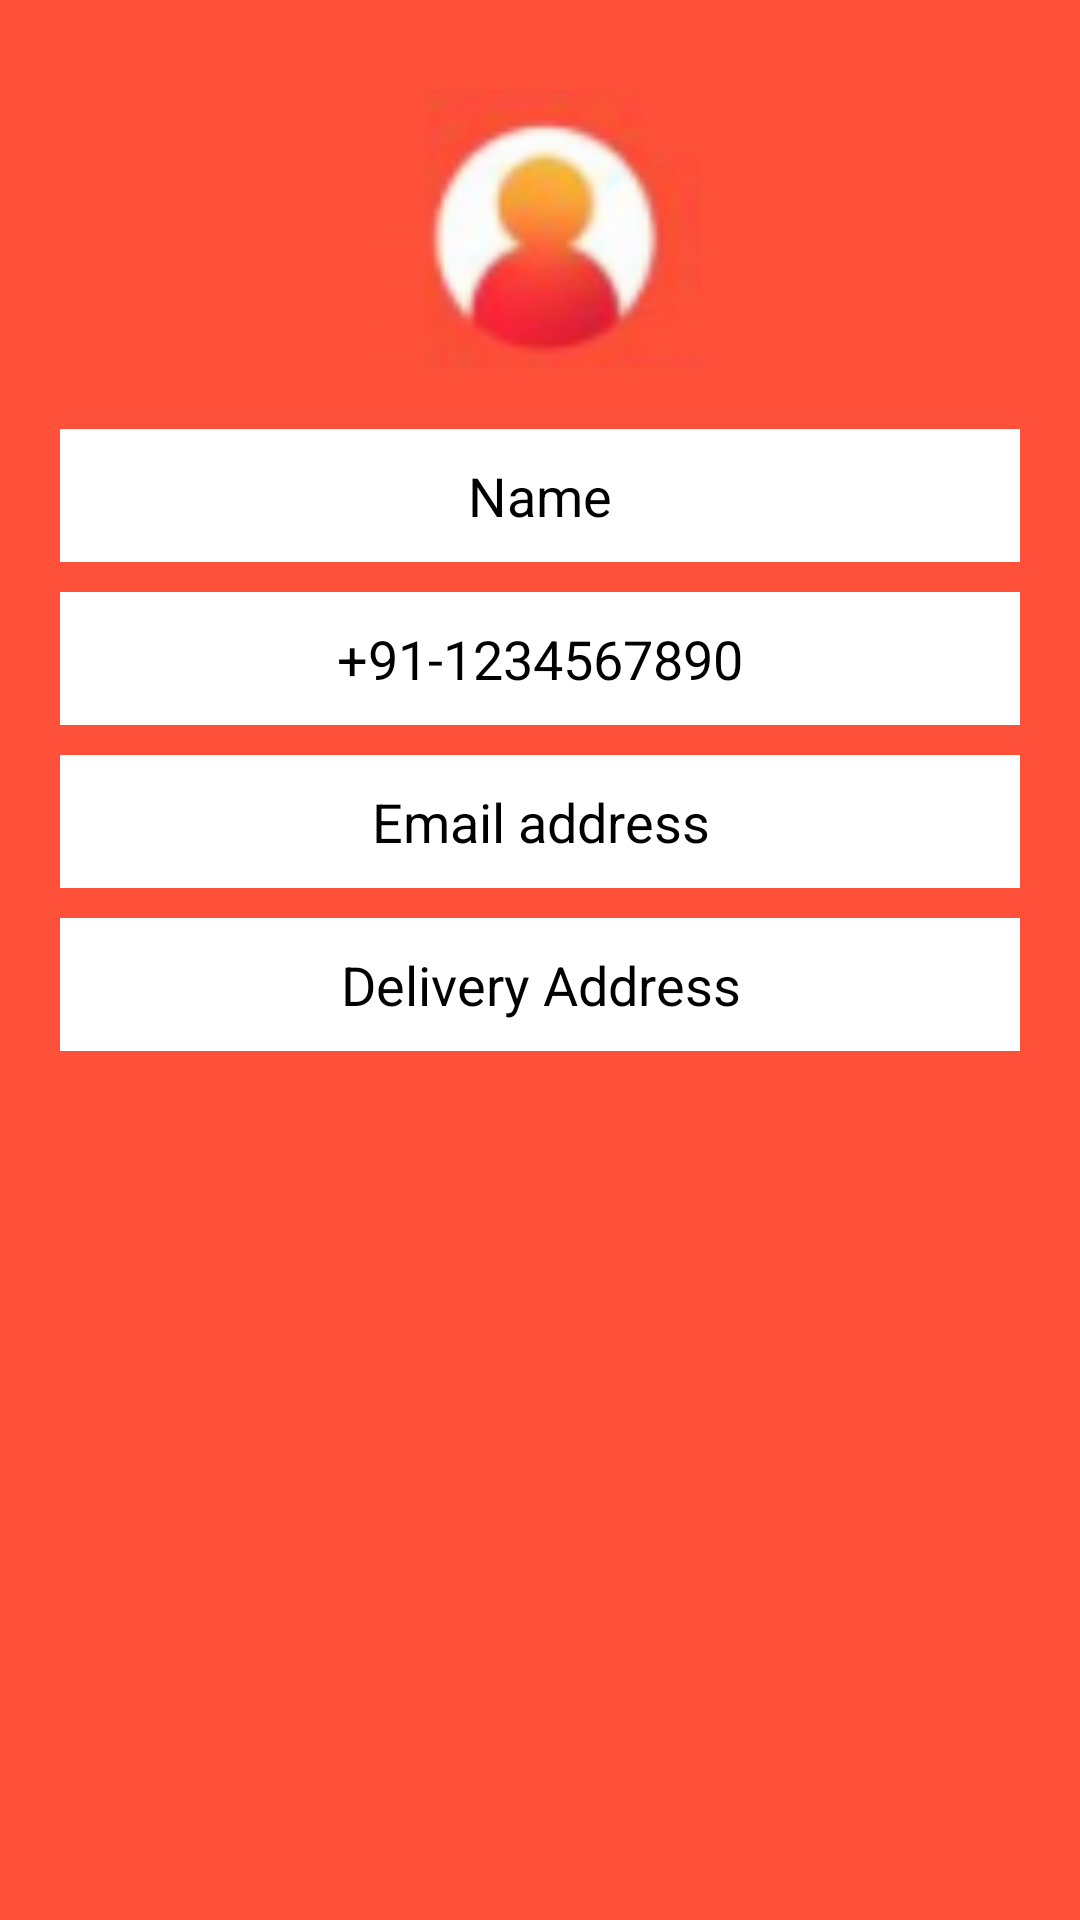

Named icons in this screenshot (1080*1920) and their centers, [x,y]:
profile: [545,235]
